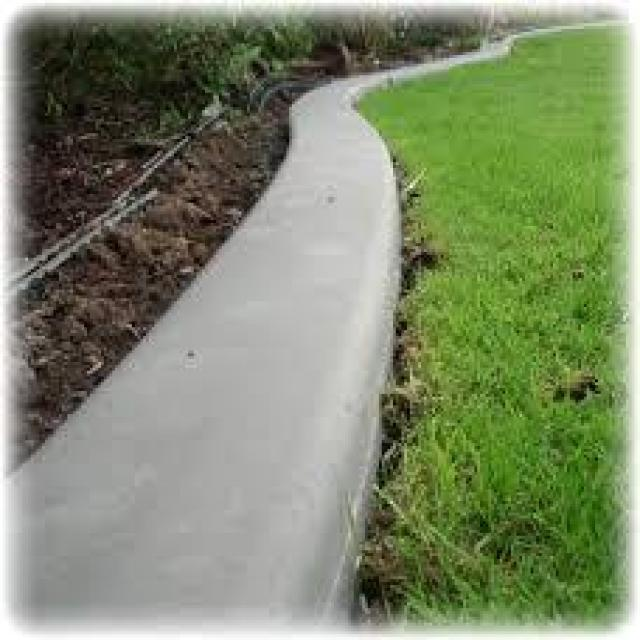curb: (121, 371, 413, 640), (276, 96, 415, 434)
